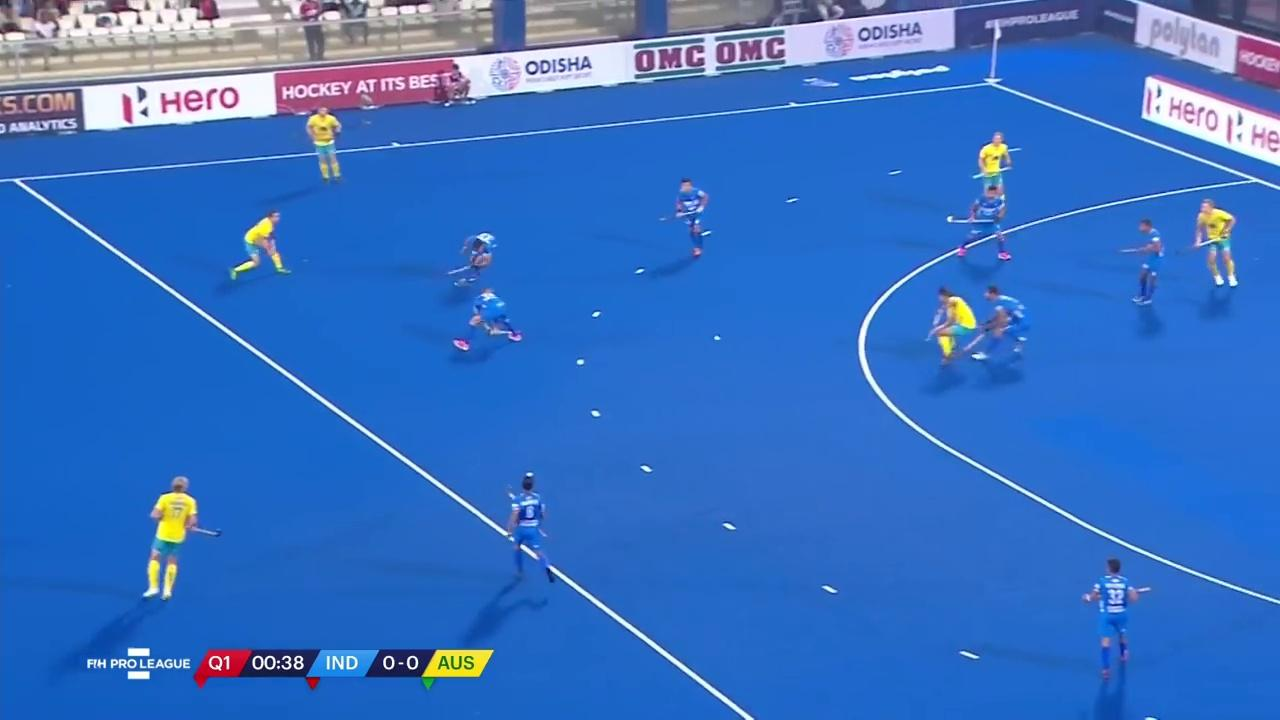ball: (710, 332, 725, 343)
